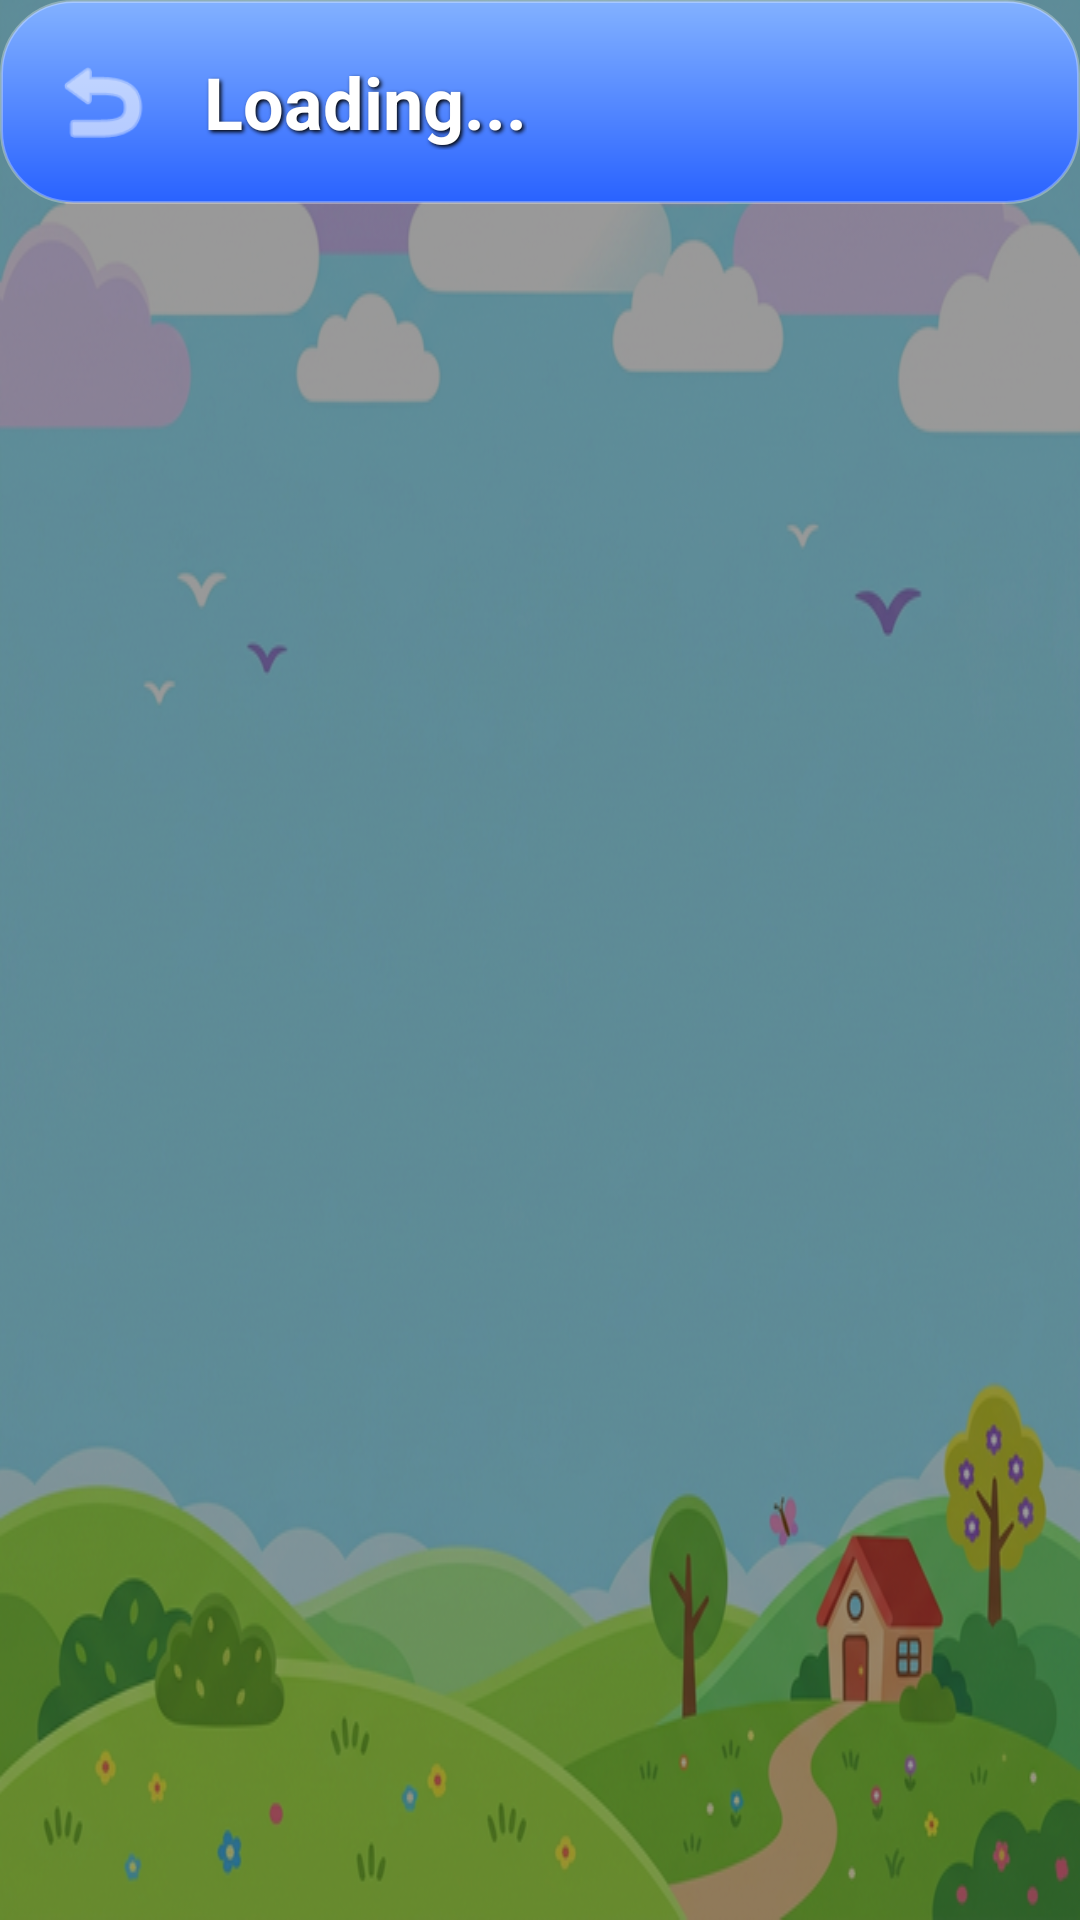

Named icons in this screenshot (1080px x 1920px) and their centers, (x,y):
revert: (102,102)
